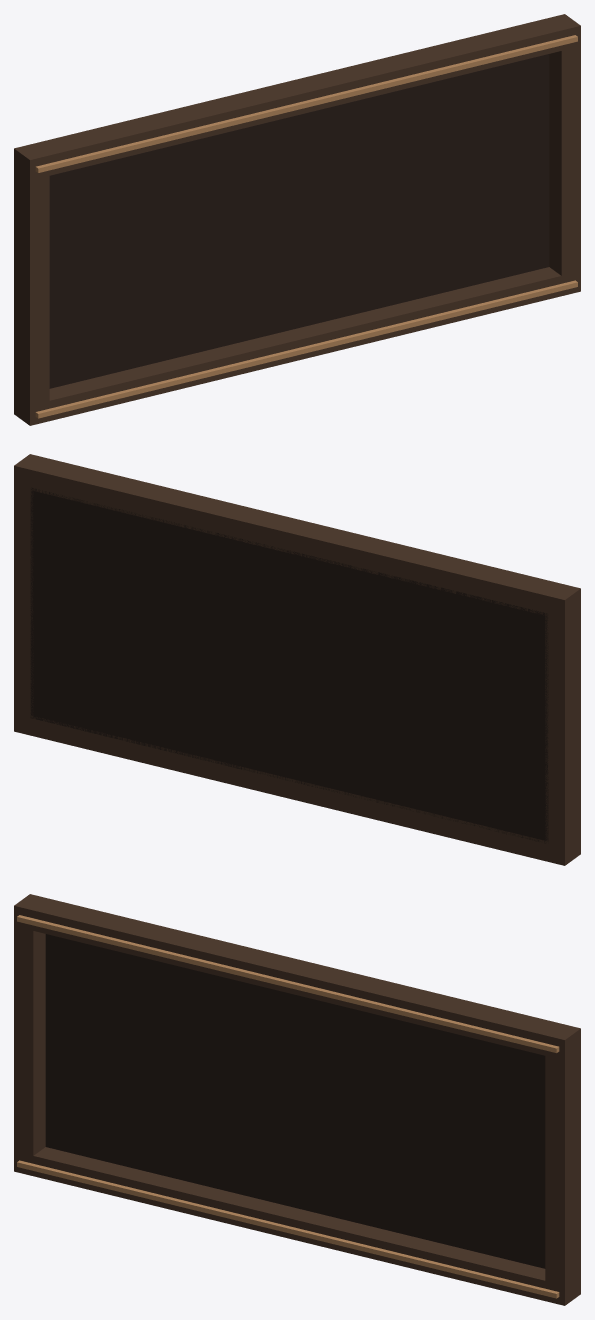
Rendered from painting_row.glb.
3 views of the same model, one above another, from view 1: azimuth 30°, elevation 25°; view 2: azimuth 150°, elevation 25°; view 3: azimuth 330°, elevation 25° (orthographic).
Parts seen in each view (by area): view 1: painting_row; view 2: painting_row; view 3: painting_row.
Part boxes in pixels (left/top/right/bottom): painting_row: left=14, top=14, right=580, bottom=425; painting_row: left=14, top=454, right=580, bottom=865; painting_row: left=14, top=894, right=580, bottom=1305.
Size of the model in its own units: 0.99 by 0.4564 by 0.058.
